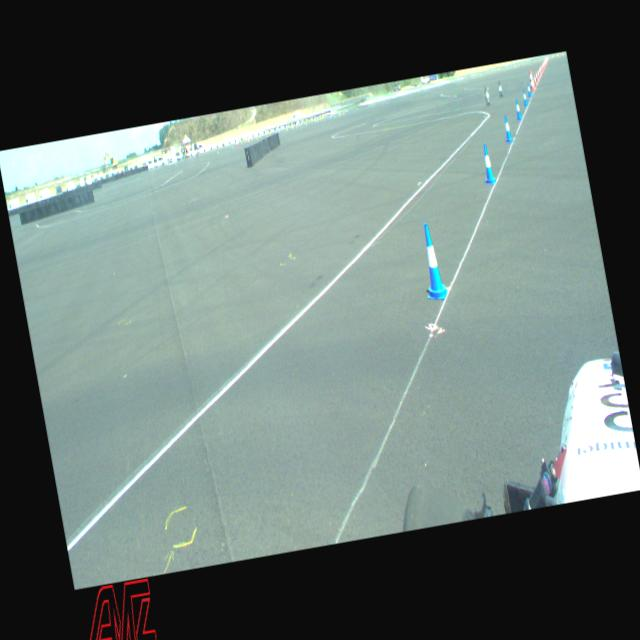blue_cone: (415, 221, 449, 300), (479, 142, 496, 184), (502, 114, 512, 142), (514, 98, 522, 120), (521, 88, 528, 105), (526, 82, 532, 97)
large_orange_cone: (528, 70, 534, 90), (530, 70, 535, 88)
orange_cone: (532, 73, 536, 84), (534, 70, 538, 80), (536, 68, 540, 78), (538, 65, 542, 73), (538, 66, 540, 75), (540, 64, 542, 72)
